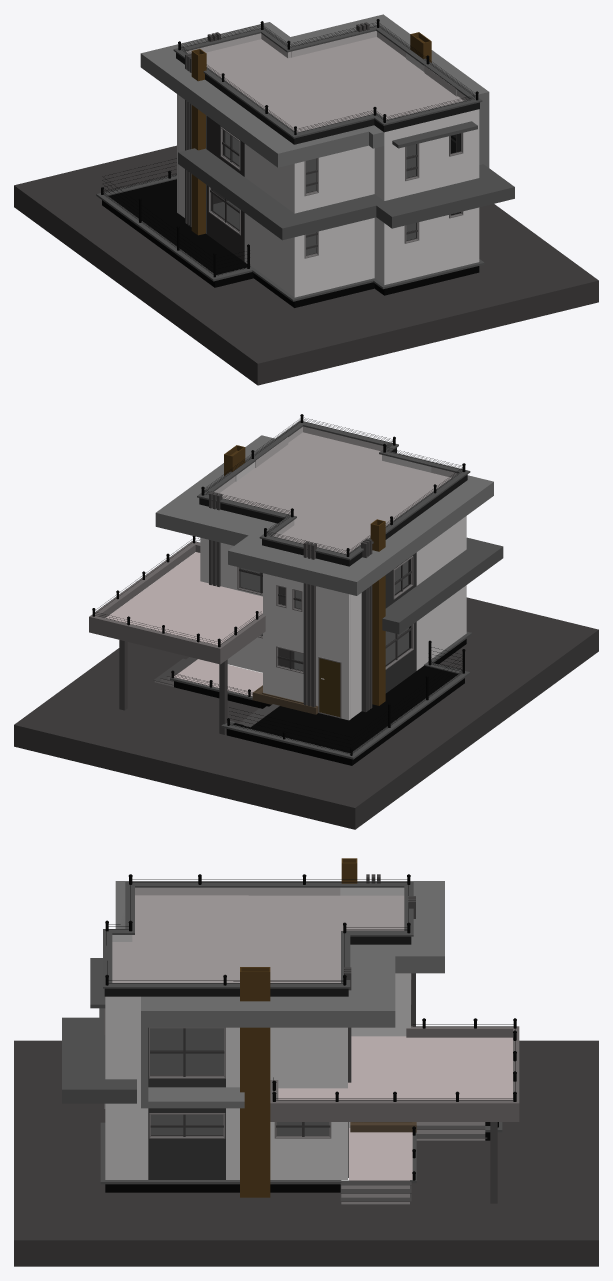
The model's file is modern_luxury_villa_house_building.glb.
3 views of the same model, one above another, from view 1: azimuth 30°, elevation 25°; view 2: azimuth 150°, elevation 25°; view 3: azimuth 270°, elevation 25° (orthographic). The views are drawn at different scales.
Visible parts, largest first — view 1: Box009, Object004_Material #19_0, Line003, Shape001, Box006, Line002, Line009, Rectangle004, Line013, Shape, Box008, Rectangle003 (+8 smaller); view 2: Box009, Object004_Material #19_0, Shape001, Line009, Object005_Material #20_0, Line001, Line012, Line002, Box006, Line013, Shape, Box002 (+17 smaller); view 3: Box009, Object004_Material #19_0, Shape001, Object005_Material #20_0, Line004, Line012, Line003, Box001, Line013, Box006, Rectangle005, Box010 (+21 smaller).
Boxes of the visible parts, box(x1,y1,x2,y2) form: Box009: box(14, 145, 598, 385); Object004_Material #19_0: box(206, 37, 463, 132); Line003: box(374, 109, 479, 284); Shape001: box(140, 14, 489, 167); Box006: box(178, 148, 514, 240); Line002: box(244, 144, 328, 297); Line009: box(102, 179, 479, 307); Rectangle004: box(328, 145, 374, 289); Line013: box(173, 25, 482, 138); Shape: box(96, 174, 484, 301); Box008: box(176, 53, 479, 144); Rectangle003: box(206, 115, 244, 261); Box009: box(14, 597, 598, 829); Object004_Material #19_0: box(218, 432, 451, 554); Shape001: box(155, 435, 493, 595); Line009: box(174, 639, 466, 765); Object005_Material #20_0: box(105, 552, 262, 645); Line001: box(263, 573, 350, 720); Line012: box(89, 541, 265, 664); Line002: box(416, 516, 466, 670); Box006: box(382, 537, 503, 634); Line013: box(197, 420, 470, 560); Shape: box(170, 631, 471, 759); Box002: box(370, 519, 385, 705); Box009: box(14, 1040, 598, 1266); Object004_Material #19_0: box(112, 895, 404, 982); Shape001: box(115, 881, 444, 1108); Object005_Material #20_0: box(278, 1036, 512, 1099); Line004: box(271, 1027, 347, 1179); Line012: box(270, 1026, 519, 1121); Line003: box(105, 935, 148, 1179); Box001: box(240, 967, 270, 1197); Line013: box(103, 882, 413, 988); Box006: box(62, 1008, 136, 1103); Rectangle005: box(148, 1027, 225, 1179); Box010: box(150, 1028, 223, 1075).
Bounding box in the file's own units: 19.08 × 11.29 × 23.62.
